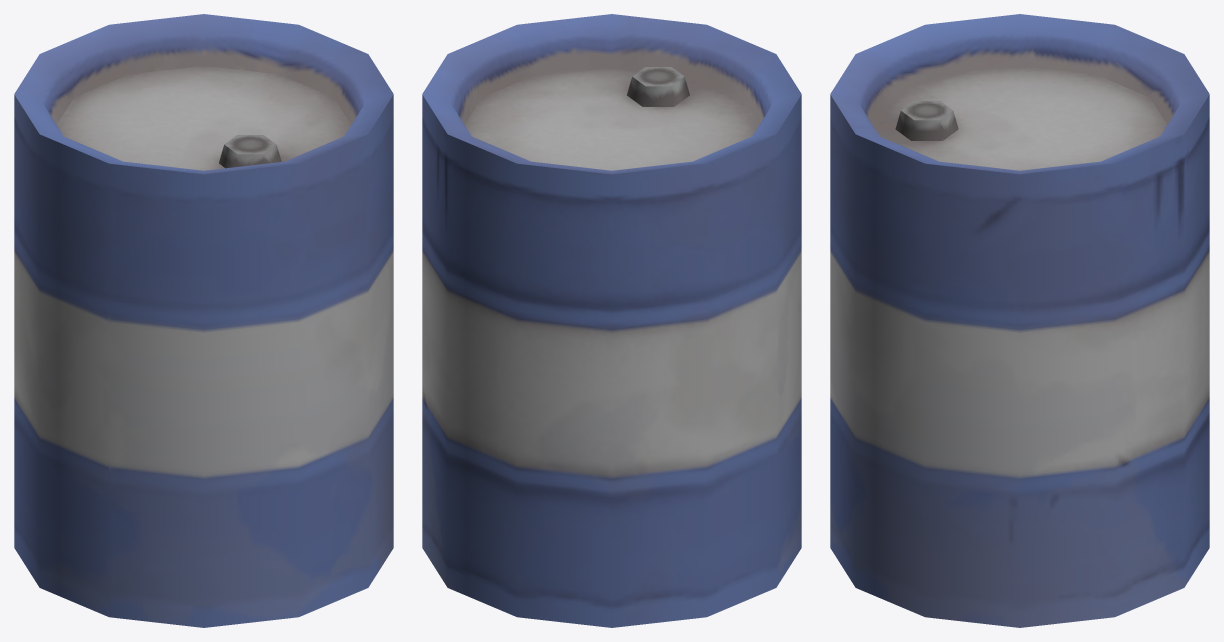
Rendered from Pfb_OilBarrel01.fbx.
The picture shows the model from 3 angles, left to right: view 1: azimuth 30°, elevation 25°; view 2: azimuth 150°, elevation 25°; view 3: azimuth 270°, elevation 25°; orthographic projection.
Parts seen in each view (by area): view 1: Mat_StreetAssets01_3; view 2: Mat_StreetAssets01_3; view 3: Mat_StreetAssets01_3.
Part boxes in pixels (<box>): Mat_StreetAssets01_3: <box>14,14,393,627</box>; Mat_StreetAssets01_3: <box>422,14,801,627</box>; Mat_StreetAssets01_3: <box>830,14,1209,627</box>.
Bounding box in the file's own units: 0.9588 × 1.26 × 0.9588.
Materials: 1 (1 with a texture image).
